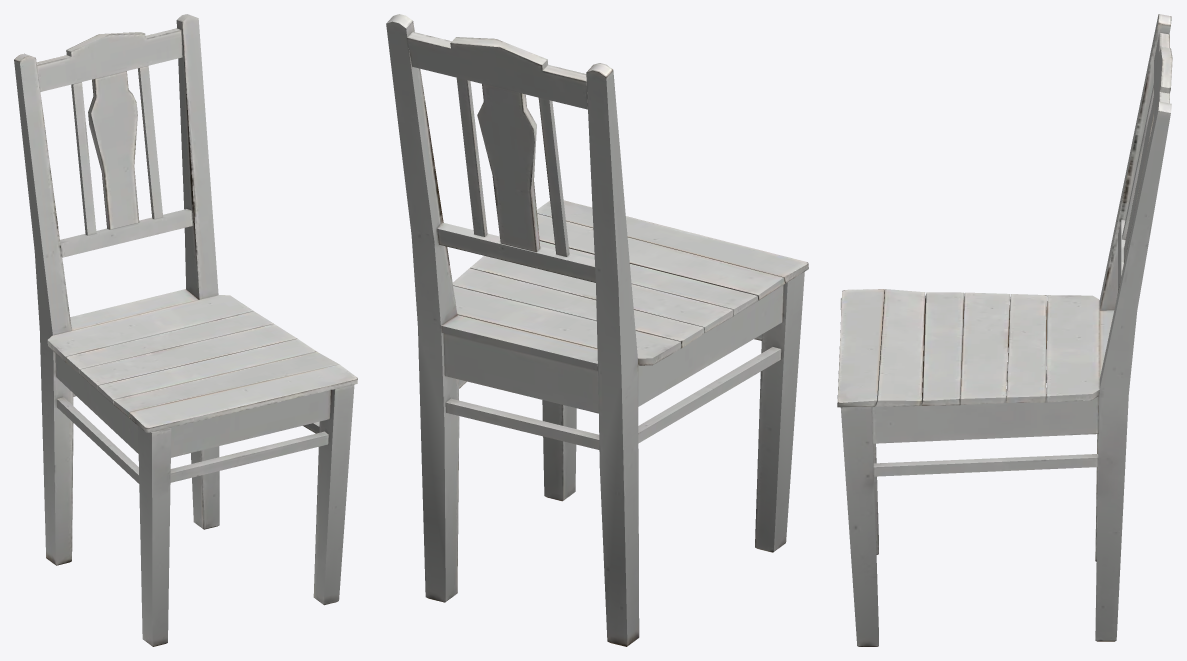
File: ph-painted_wooden_chair_01.glb
The picture shows the model from 3 angles, left to right: view 1: azimuth 30°, elevation 25°; view 2: azimuth 150°, elevation 25°; view 3: azimuth 270°, elevation 25°; orthographic projection. The views are drawn at different scales.
Visible parts, largest first — view 1: painted_wooden_chair_01; view 2: painted_wooden_chair_01; view 3: painted_wooden_chair_01.
Boxes of the visible parts, x1=… form: painted_wooden_chair_01: x1=14, y1=14, x2=357, y2=646; painted_wooden_chair_01: x1=386, y1=14, x2=808, y2=646; painted_wooden_chair_01: x1=837, y1=14, x2=1172, y2=646.
Bounding box in the file's own units: 0.4298 × 0.9558 × 0.5384.
Materials: 1 (1 with a texture image).
